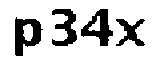3: (49, 6, 80, 51)
4: (80, 5, 116, 53)
p: (11, 17, 43, 60)
x: (116, 17, 147, 52)
